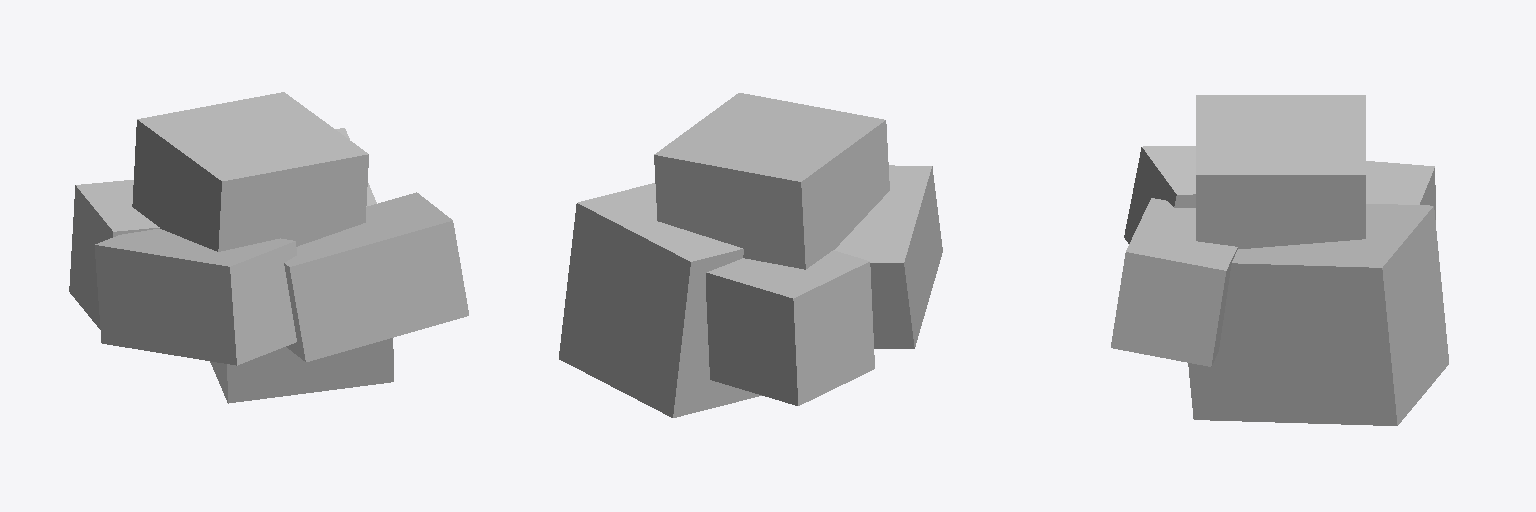
Rendered from prop_2.obj.
3 views of the same model, side by side, from view 1: azimuth 30°, elevation 25°; view 2: azimuth 150°, elevation 25°; view 3: azimuth 270°, elevation 25° (orthographic).
Parts seen in each view (by area): view 1: Cube.5; view 2: Cube.5; view 3: Cube.5.
Boxes of the visible parts, x1=… form: Cube.5: x1=69, y1=92, x2=468, y2=403; Cube.5: x1=559, y1=93, x2=942, y2=417; Cube.5: x1=1111, y1=95, x2=1448, y2=425.
Bounding box in the file's own units: 94.8 × 74.5 × 92.37.